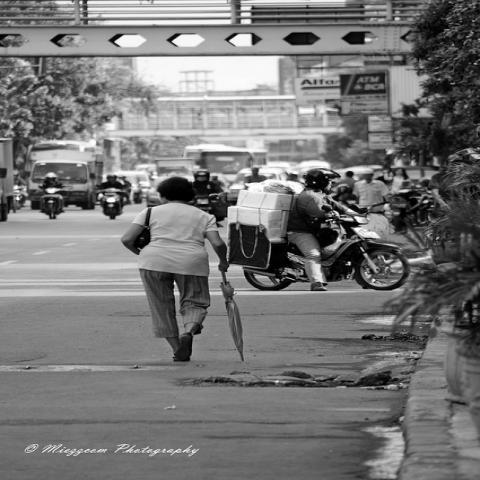bus: (194, 150, 268, 180)
car: (226, 166, 290, 200), (114, 171, 151, 203), (148, 176, 170, 208), (294, 159, 333, 174), (267, 167, 296, 174)
motorcycle: (237, 202, 402, 291), (387, 186, 426, 230), (187, 192, 228, 228), (34, 188, 67, 220), (97, 189, 127, 220), (11, 183, 23, 213)
truck: (25, 143, 103, 211), (155, 158, 205, 183)
